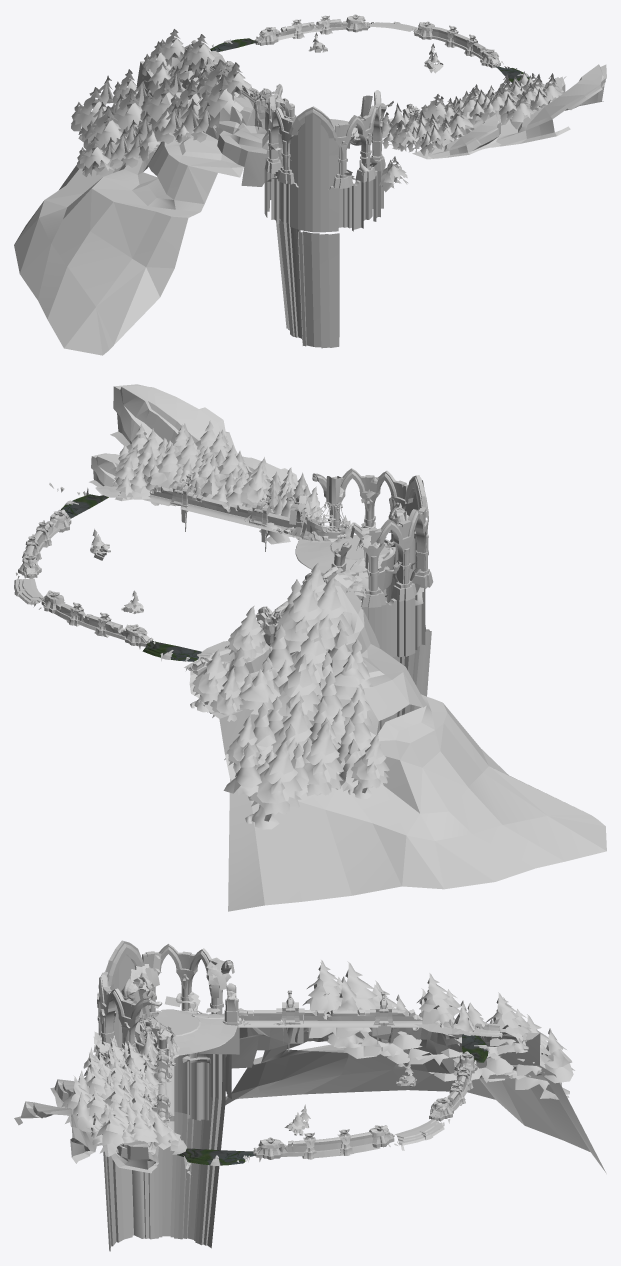
File: north_walls.FBX
The picture shows the model from 3 angles, top to bottom: view 1: azimuth 30°, elevation 25°; view 2: azimuth 150°, elevation 25°; view 3: azimuth 270°, elevation 25°; orthographic projection. The views are drawn at different scales.
Visible parts, largest first — view 1: _chunk_base_north_walls_f_Alpha_Target_3dcUV_Atlas_color_cop (×23), _chunk_base_north_arches_Alpha_Target_3dcUV_Atlas_color_copy (×6), _chunk_base_north_walls_g_Alpha_Target_3dcUV_Atlas_color_cop (×6), _chunk_periph_north_h_Alpha_Target_3dcUV_Atlas_color_copy5, _chunk_periph_north_h_Alpha_Target_3dcUV_Atlas_color_copy3, _chunk_base_north_walls_b_Alpha_Target_3dcUV_Atlas_color_cop (×2), _chunk_periph_north_h_Alpha_Target_3dcUV_Atlas_color_copy6, _chunk_periph_north_h_Alpha_Target_3dcUV_Atlas_color_copy2, _chunk_base_north_walls_d_Alpha_Target_3dcUV_Atlas_color_cop (×2); view 2: _chunk_base_north_walls_f_Alpha_Target_3dcUV_Atlas_color_cop (×25), _chunk_base_north_arches_Alpha_Target_3dcUV_Atlas_color_copy (×5), _chunk_base_north_walls_g_Alpha_Target_3dcUV_Atlas_color_cop (×5), _chunk_periph_north_h_Alpha_Target_3dcUV_Atlas_color_copy2, _chunk_periph_north_h_Alpha_Target_3dcUV_Atlas_color_copy3, _chunk_base_north_platform_Alpha_Target_3dcUV_Atlas_color_co (×2), _chunk_base_north_shop_Alpha_Target_3dcUV_Atlas_color_copy3, _chunk_periph_north_h_Alpha_Target_3dcUV_Atlas_color_copy0, _chunk_periph_north_h_Alpha_Target_3dcUV_Atlas_color_copy5, _chunk_base_north_walls_d_Alpha_Target_3dcUV_Atlas_color_cop; view 3: _chunk_base_north_walls_f_Alpha_Target_3dcUV_Atlas_color_cop (×21), _chunk_base_north_arches_Alpha_Target_3dcUV_Atlas_color_copy (×6), _chunk_base_north_walls_g_Alpha_Target_3dcUV_Atlas_color_cop (×6), _chunk_base_north_platform_Alpha_Target_3dcUV_Atlas_color_co (×3), _chunk_base_north_walls_b_Alpha_Target_3dcUV_Atlas_color_cop (×2), _chunk_periph_north_h_Alpha_Target_3dcUV_Atlas_color_copy2, struc_stairs_north_base_pali_a1, _chunk_periph_north_h_Alpha_Target_3dcUV_Atlas_color_copy5, _chunk_periph_north_h_Alpha_Target_3dcUV_Atlas_color_copy3, _chunk_periph_north_h_Alpha_Target_3dcUV_Atlas_color_copy0, _chunk_base_north_shop_Alpha_Target_3dcUV_Atlas_color_copy3, _chunk_base_north_walls_d_Alpha_Target_3dcUV_Atlas_color_cop (+1 smaller).
Boxes of the visible parts, x1,y1,x2,y2 form: _chunk_base_north_walls_f_Alpha_Target_3dcUV_Atlas_color_cop (×23): (14, 29, 291, 355); _chunk_base_north_arches_Alpha_Target_3dcUV_Atlas_color_copy (×6): (264, 84, 393, 348); _chunk_base_north_walls_g_Alpha_Target_3dcUV_Atlas_color_cop (×6): (469, 71, 602, 146); _chunk_periph_north_h_Alpha_Target_3dcUV_Atlas_color_copy5: (432, 99, 499, 157); _chunk_periph_north_h_Alpha_Target_3dcUV_Atlas_color_copy3: (381, 103, 430, 186); _chunk_base_north_walls_b_Alpha_Target_3dcUV_Atlas_color_cop (×2): (418, 22, 506, 68); _chunk_periph_north_h_Alpha_Target_3dcUV_Atlas_color_copy6: (385, 117, 449, 188); _chunk_periph_north_h_Alpha_Target_3dcUV_Atlas_color_copy2: (410, 87, 482, 151); _chunk_base_north_walls_d_Alpha_Target_3dcUV_Atlas_color_cop (×2): (255, 15, 342, 45); _chunk_base_north_walls_f_Alpha_Target_3dcUV_Atlas_color_cop (×25): (184, 541, 606, 911); _chunk_base_north_arches_Alpha_Target_3dcUV_Atlas_color_copy (×5): (285, 468, 433, 734); _chunk_base_north_walls_g_Alpha_Target_3dcUV_Atlas_color_cop (×5): (92, 384, 230, 531); _chunk_periph_north_h_Alpha_Target_3dcUV_Atlas_color_copy2: (201, 445, 286, 551); _chunk_periph_north_h_Alpha_Target_3dcUV_Atlas_color_copy3: (257, 481, 322, 544); _chunk_base_north_platform_Alpha_Target_3dcUV_Atlas_color_co (×2): (296, 503, 415, 581); _chunk_base_north_shop_Alpha_Target_3dcUV_Atlas_color_copy3: (310, 476, 354, 542); _chunk_periph_north_h_Alpha_Target_3dcUV_Atlas_color_copy0: (180, 450, 228, 514); _chunk_periph_north_h_Alpha_Target_3dcUV_Atlas_color_copy5: (236, 451, 298, 494); _chunk_base_north_walls_d_Alpha_Target_3dcUV_Atlas_color_cop: (60, 602, 114, 637); _chunk_base_north_walls_f_Alpha_Target_3dcUV_Atlas_color_cop (×21): (222, 960, 606, 1173); _chunk_base_north_arches_Alpha_Target_3dcUV_Atlas_color_copy (×6): (93, 940, 243, 1251); _chunk_base_north_walls_g_Alpha_Target_3dcUV_Atlas_color_cop (×6): (34, 1065, 184, 1173); _chunk_base_north_platform_Alpha_Target_3dcUV_Atlas_color_co (×3): (121, 973, 237, 1052); _chunk_base_north_walls_b_Alpha_Target_3dcUV_Atlas_color_cop (×2): (246, 1125, 381, 1162); _chunk_periph_north_h_Alpha_Target_3dcUV_Atlas_color_copy2: (110, 1041, 174, 1105); struc_stairs_north_base_pali_a1: (177, 1148, 247, 1165); _chunk_periph_north_h_Alpha_Target_3dcUV_Atlas_color_copy5: (50, 1049, 113, 1107); _chunk_periph_north_h_Alpha_Target_3dcUV_Atlas_color_copy3: (109, 1031, 175, 1077); _chunk_periph_north_h_Alpha_Target_3dcUV_Atlas_color_copy0: (110, 1068, 174, 1115); _chunk_base_north_shop_Alpha_Target_3dcUV_Atlas_color_copy3: (134, 989, 177, 1047); _chunk_base_north_walls_d_Alpha_Target_3dcUV_Atlas_color_cop: (447, 1065, 473, 1108).
Bounding box in the file's own units: 10153 × 4854 × 8753.
